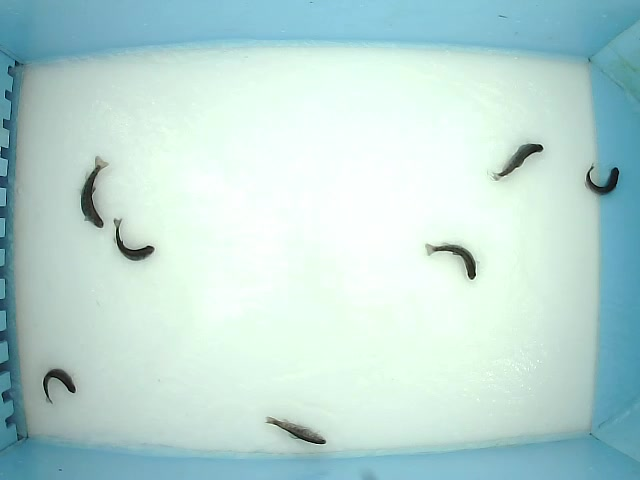fish: (487, 142, 544, 183), (423, 242, 480, 281), (78, 155, 108, 229), (263, 415, 326, 446), (112, 217, 155, 262), (42, 368, 78, 406), (584, 162, 620, 196)
